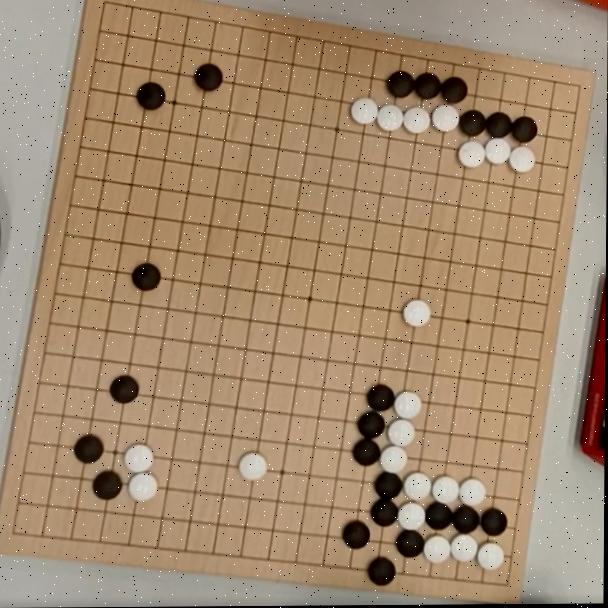corners: (0, 514, 35, 548), (558, 74, 599, 103), (492, 568, 521, 600), (86, 0, 123, 19)
